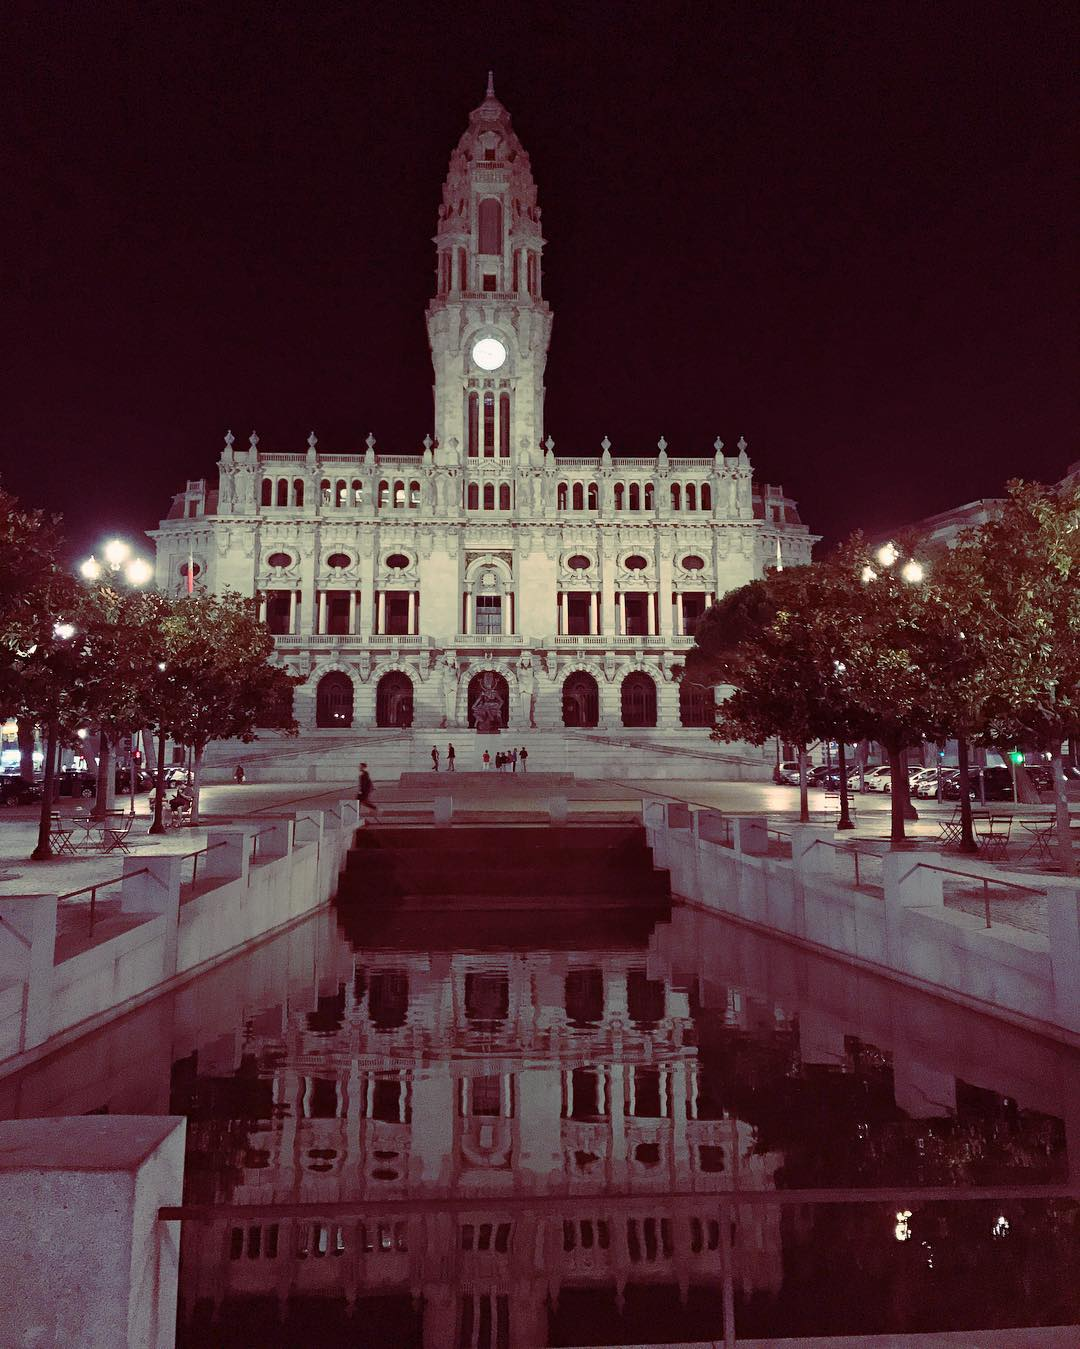camara: (140, 71, 827, 769)
